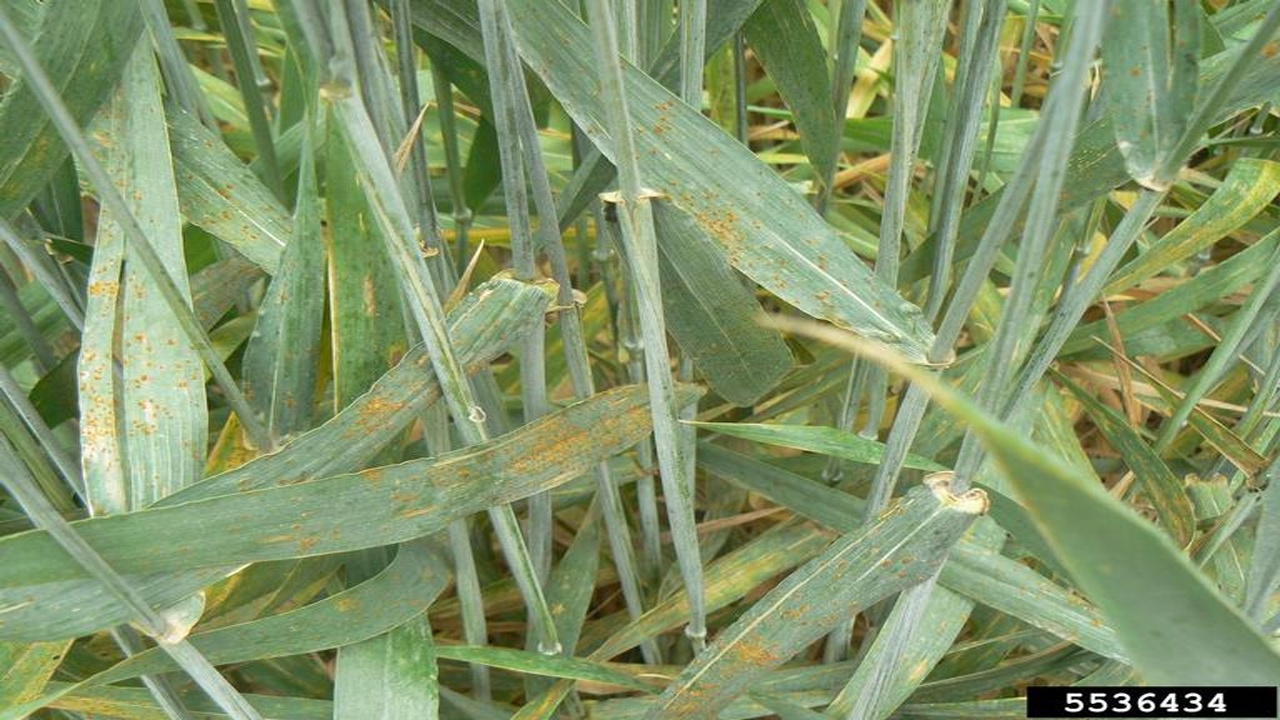leaf_rust: (525, 18, 915, 336), (639, 486, 954, 720), (315, 383, 707, 546), (76, 60, 204, 457), (179, 84, 276, 274)
